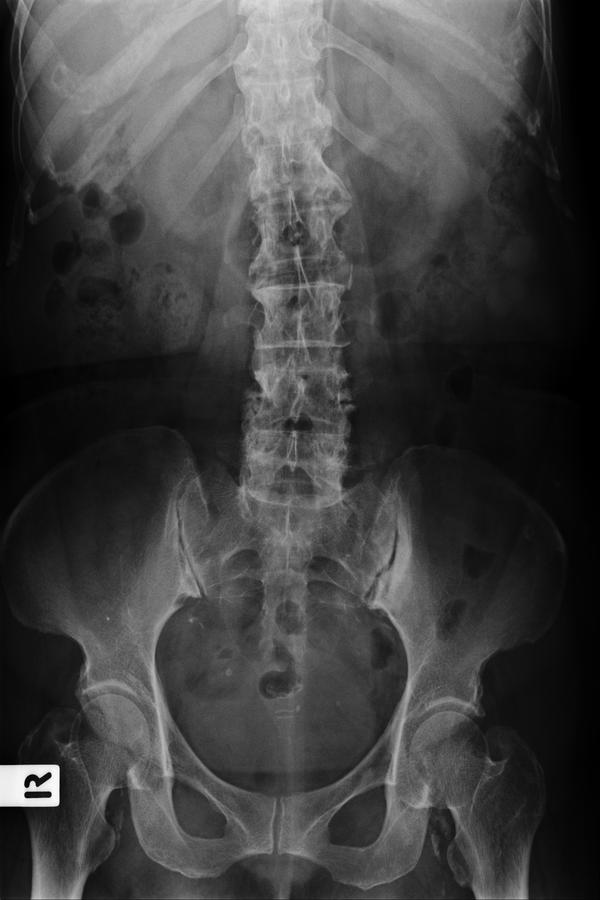lumbar scoliosis: (232, 160, 363, 519)
